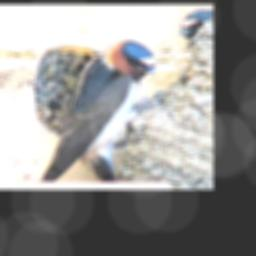Swallow: (33, 39, 157, 180)
